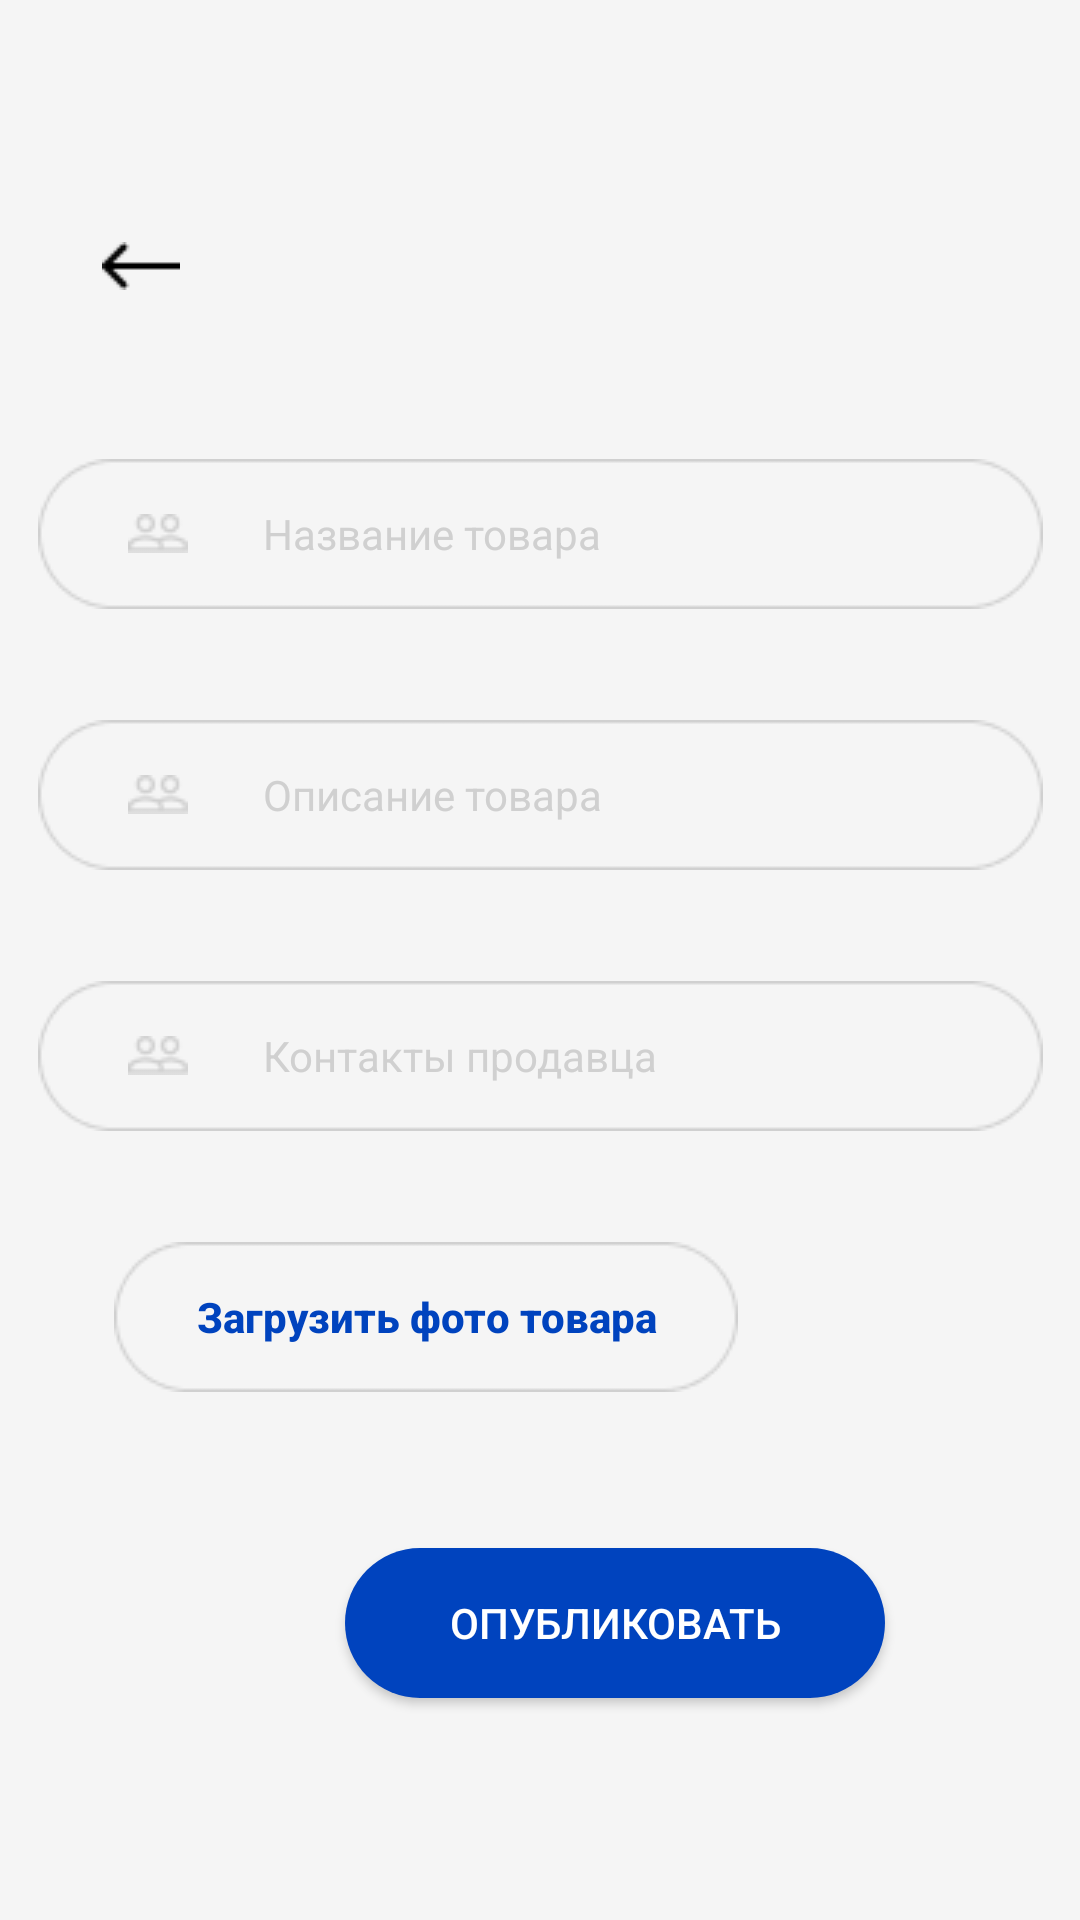

Named icons in this screenshot (1080 × 1920) and their bounding boxes, [x1, y1, x2, y2]:
arrow left: [102, 242, 180, 290]
